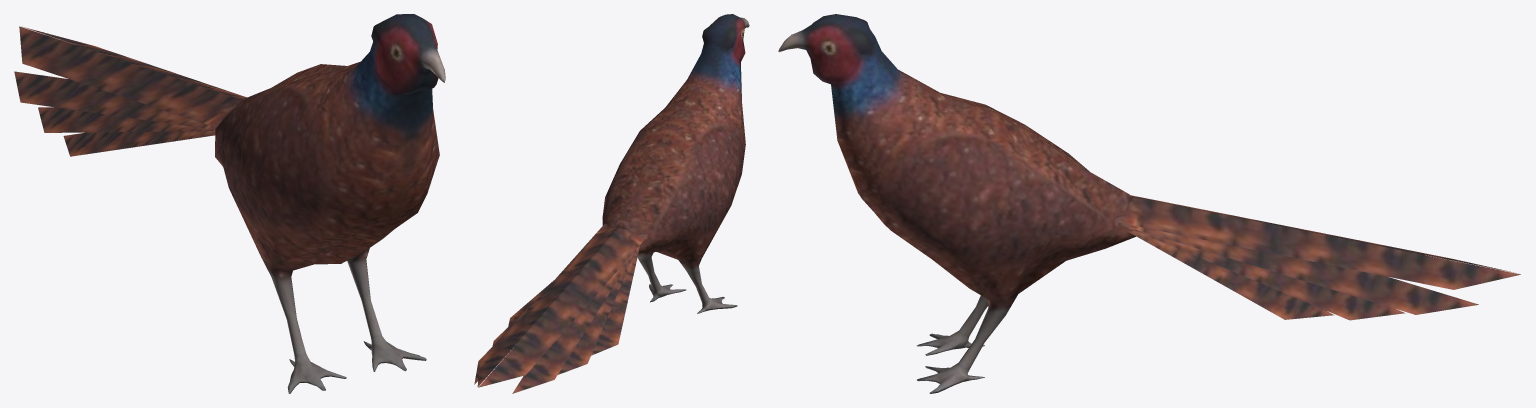
File: Pheasant.glb
3 renders of one model, left to right at view 1: azimuth 30°, elevation 25°; view 2: azimuth 150°, elevation 25°; view 3: azimuth 270°, elevation 25°, orthographic. The views are drawn at different scales.
Visible parts, largest first — view 1: low, low.001; view 2: low, low.001; view 3: low, low.001.
Boxes of the visible parts, <box> form: low: <box>22,14,445,393</box>; low.001: <box>14,26,242,156</box>; low: <box>477,14,749,386</box>; low.001: <box>474,227,648,393</box>; low: <box>778,14,1520,393</box>; low.001: <box>1119,195,1516,320</box>.
Size of the model in its own units: 2.74 by 6.15 by 11.88.
1 material, 1 textured.
